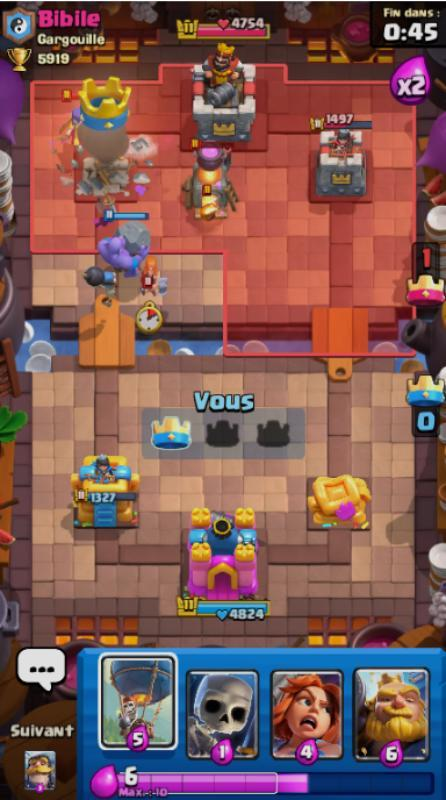player_bomber: (79, 264, 124, 312)
player_bowler: (93, 201, 156, 279)
